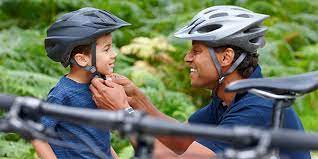helmets: (43, 6, 132, 66), (175, 6, 270, 54)
